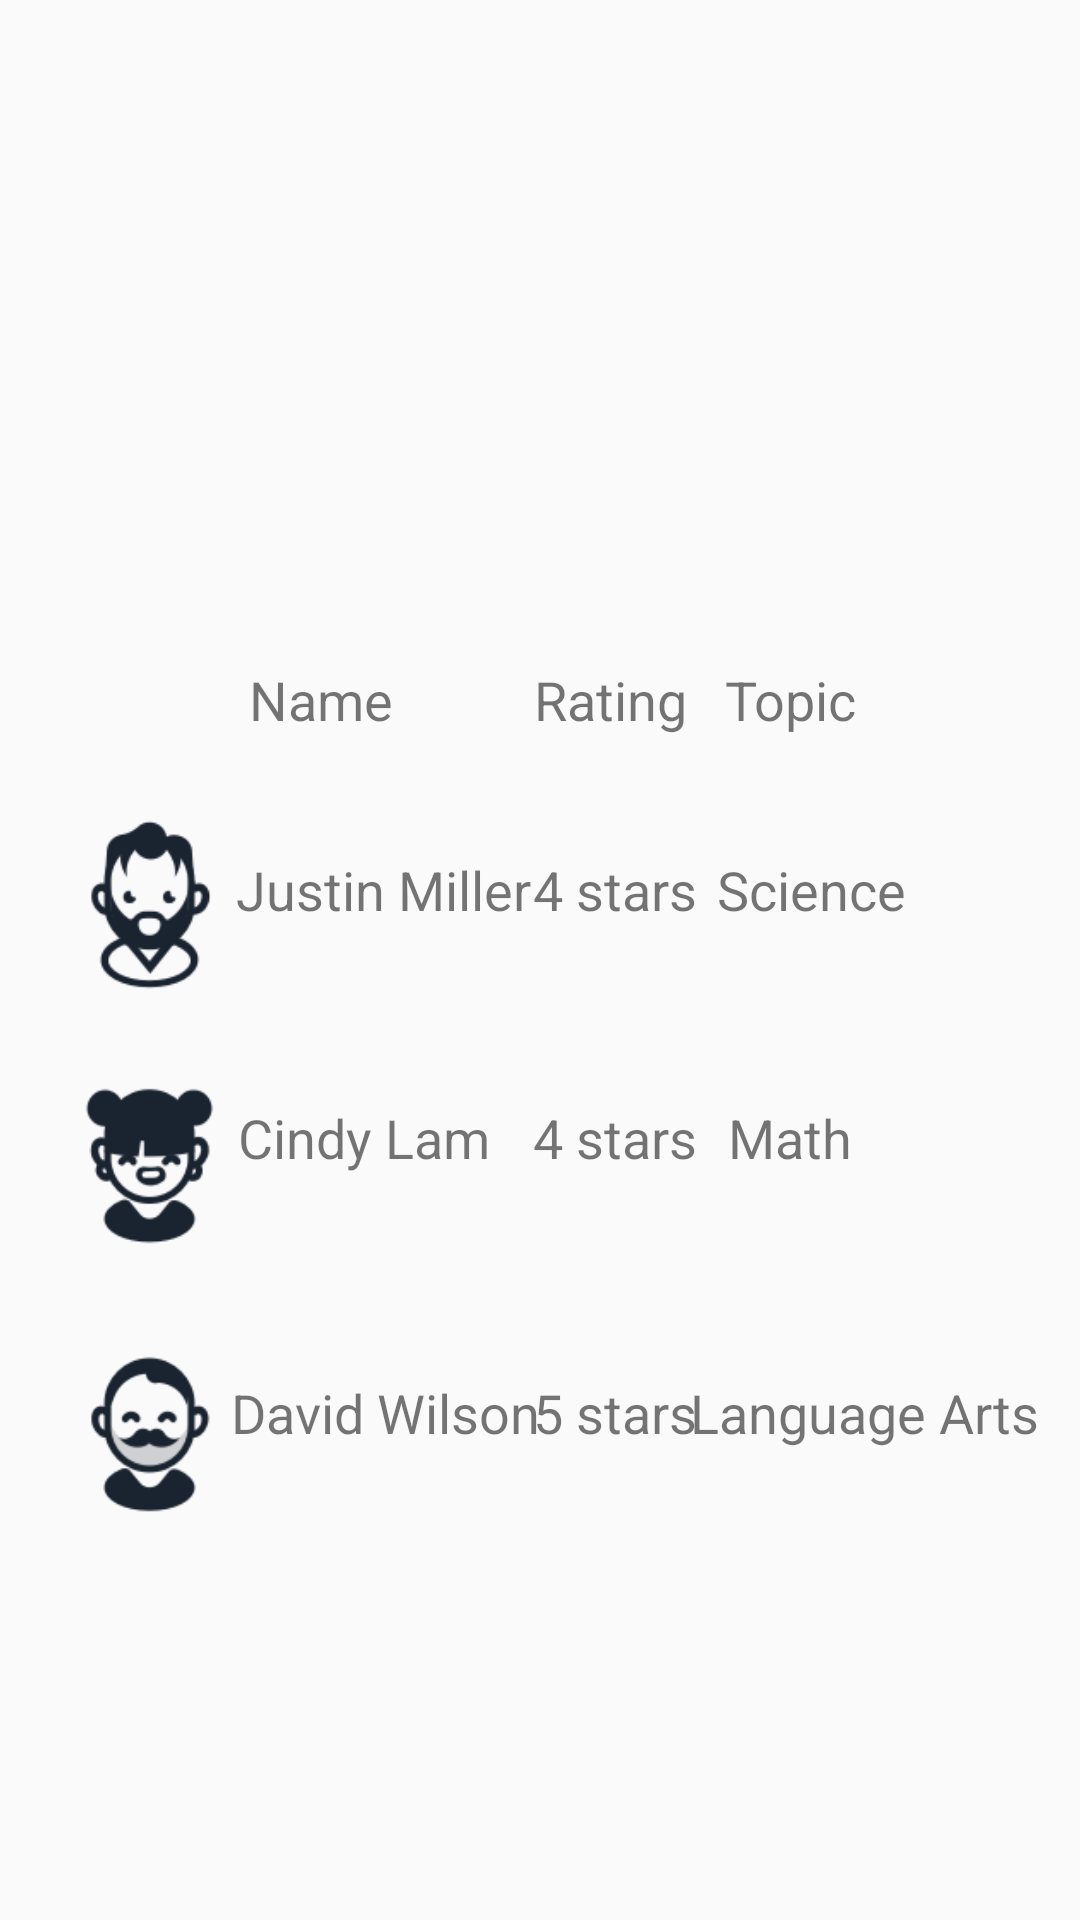

Where to tap for icons on this 1080px x 1920px app screen, as (x=x, y=y):
femalebuns: (x=149, y=1165)
malebeard: (x=175, y=904)
malemoustache: (x=175, y=1434)
